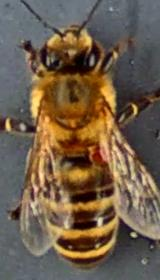varroa_mite: (78, 137, 118, 171)
